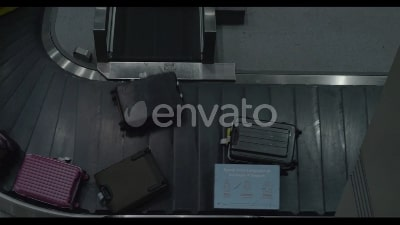baggage: (92, 146, 171, 213), (11, 148, 92, 213), (221, 117, 301, 171), (207, 160, 286, 214), (112, 70, 187, 126)
